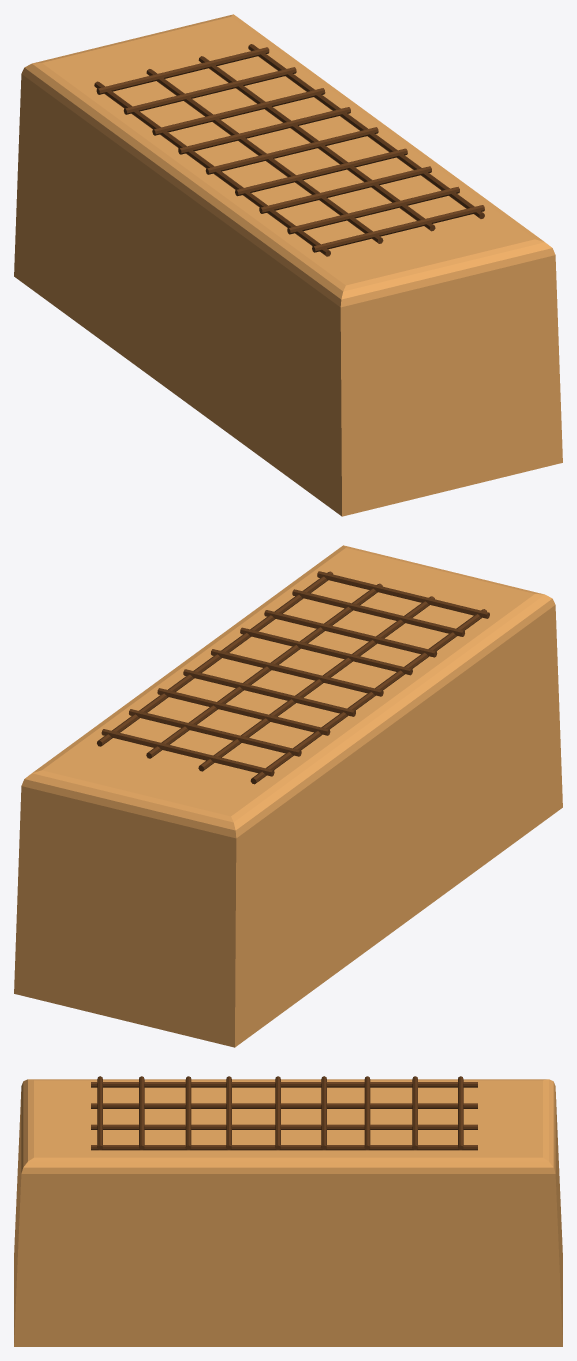
The model's file is Kitchen Table.fbx.
The picture shows the model from 3 angles, top to bottom: view 1: azimuth 30°, elevation 25°; view 2: azimuth 150°, elevation 25°; view 3: azimuth 270°, elevation 25°; orthographic projection. The views are drawn at different scales.
Visible parts, largest first — view 1: Kitchen Table; view 2: Kitchen Table; view 3: Kitchen Table.
Boxes of the visible parts, x1,y1,x2,y2 form: Kitchen Table: (14, 14, 562, 516); Kitchen Table: (14, 545, 562, 1047); Kitchen Table: (14, 1076, 562, 1346).
Bounding box in the file's own units: 86.87 × 85.33 × 224.
